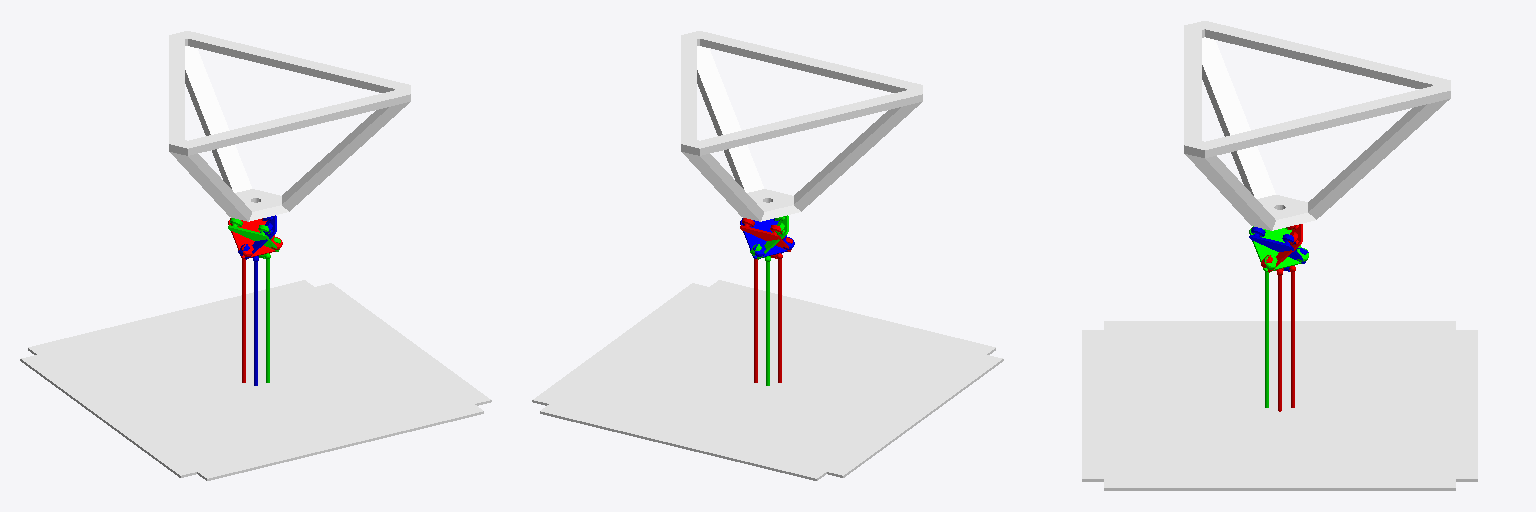
robot.urdf — deltarobot:
<?xml version="1.0"?>
<robot name="deltarobot">

    <!-- RAILS -->
    <link name="rails_link">
        <visual>
            <origin xyz="0 0 0"/>
            <geometry>
                <mesh filename="rails.stl"/>
            </geometry>
            <material name="white">
              <color rgba="1 1 1 1"/>
            </material>
        </visual>
        <collision>
            <origin xyz="0 0 0"/>
            <geometry>
                <mesh filename="rails.stl"/>
            </geometry>
        </collision>
    </link>
    <!-- RAILS END-->

    <!-- ************************************************************************ -->





    <!-- ************************************************************************ -->

    <!-- CARRIAGE 1 -->
    <link name="carriage_1_link">
        <visual>
            <origin xyz="0. 0. 0."/>
            <geometry>
                <mesh filename="carriage.stl"/>
            </geometry>
            <material name="red">
              <color rgba="1 0 0 1"/>
            </material>
        </visual>
    </link>

    <joint name="carriage_1_joint" type="prismatic">
        <origin xyz="0. 0. 0." rpy="0 0 0"/>
        <parent link="rails_link"/>
        <child link="carriage_1_link"/>
        <axis xyz="0 1 1"/>
        <limit lower="0" upper="0" velocity="0" effort="0"/> 
    </joint>
    <!-- CARRIAGE 1 END-->


    <!-- ROD 1A -->
    <link name="rod_1a_link_virtual">
    </link>

    <link name="rod_1a_link">
        <visual>
            <origin xyz="0. 0. 0."/>
            <geometry>
                <mesh filename="link.stl"/>
            </geometry>
            <material name="red">
              <color rgba="1 0 0 1"/>
            </material>
        </visual>
        <collision>
            <origin xyz="0. 0. 0."/>
            <geometry>
                <mesh filename="link.stl"/>
            </geometry>
        </collision>
    </link>

    <joint name="rod_1a_x_joint" type="revolute">
        <origin xyz="25 0. 0." rpy="0 0 0"/>
        <parent link="carriage_1_link"/>
        <child link="rod_1a_link_virtual"/>
        <axis xyz="1 0 0"/>
        <limit lower="0" upper="0" velocity="0" effort="0"/> 
    </joint>

    <joint name="rod_1a_y_joint" type="revolute">
        <origin xyz="0. 0. 0." rpy="0 0 0"/>
        <parent link="rod_1a_link_virtual"/>
        <child link="rod_1a_link"/>
        <axis xyz="0 1 0"/>
        <limit lower="0" upper="0" velocity="0" effort="0"/> 
    </joint>
    <!-- ROD 1A END-->

    <!-- ROD 1B -->
    <link name="rod_1b_link_virtual">
    </link>

    <link name="rod_1b_link">
        <visual>
            <origin xyz="0. 0. 0."/>
            <geometry>
                <mesh filename="link.stl"/>
            </geometry>
            <material name="red">
              <color rgba="1 0 0 1"/>
            </material>
        </visual>
        <collision>
            <origin xyz="0. 0. 0."/>
            <geometry>
                <mesh filename="link.stl"/>
            </geometry>
        </collision>
    </link>

    <joint name="rod_1b_x_joint" type="revolute">
        <origin xyz="-25 0. 0." rpy="0 0 0"/>
        <parent link="carriage_1_link"/>
        <child link="rod_1b_link_virtual"/>
        <axis xyz="1 0 0"/>
        <limit lower="0" upper="0" velocity="0" effort="0"/> 
    </joint>

    <joint name="rod_1b_y_joint" type="revolute">
        <origin xyz="0. 0. 0." rpy="0 0 0"/>
        <parent link="rod_1b_link_virtual"/>
        <child link="rod_1b_link"/>
        <axis xyz="0 1 0"/>
        <limit lower="0" upper="0" velocity="0" effort="0"/> 
    </joint>
    <!-- ROD 1B END-->


    <!-- ROD 1 END EFFECTOR -->
    <link name="rod_1_end_effector_link">
    </link>

    <joint name="rod_1_end_effector_joint" type="fixed">
        <origin xyz="0 0 -400"/>
        <parent link="rod_1a_link"/>
        <child link="rod_1_end_effector_link"/>
    </joint>
    <!-- ROD 1 END EFFECTOR END -->

    <!-- ************************************************************************ -->





    <!-- ************************************************************************ -->

    <!-- CARRIAGE 2 -->
    <link name="carriage_2_link">
        <visual>
            <origin xyz="0. 0. 0." rpy="0 0 2.0943951"/>
            <geometry>
                <mesh filename="carriage.stl"/>
            </geometry>
            <material name="green">
              <color rgba="0 1 0 1"/>
            </material>
        </visual>
    </link>

    <joint name="carriage_2_joint" type="prismatic">
        <origin xyz="0. 0. 0." rpy="0 0 0"/>
        <parent link="rails_link"/>
        <child link="carriage_2_link"/>
        <axis xyz="-0.61237244 -0.35355339 0.70710678"/>
        <limit lower="0" upper="0" velocity="0" effort="0"/> 
    </joint>
    <!-- CARRIAGE 2 END-->


    <!-- ROD 2A -->
    <link name="rod_2a_link_virtual">
    </link>

    <link name="rod_2a_link">
        <visual>
            <origin xyz="0 0 0"/>
            <geometry>
                <mesh filename="link.stl"/>
            </geometry>
            <material name="green">
              <color rgba="0 1 0 1"/>
            </material>
        </visual>
        <collision>
            <origin xyz="0. 0. 0."/>
            <geometry>
                <mesh filename="link.stl"/>
            </geometry>
        </collision>
    </link>

    <joint name="rod_2a_x_joint" type="revolute">
        <origin xyz="12.5 -21.650635 0" rpy="0 0 0"/>
        <parent link="carriage_2_link"/>
        <child link="rod_2a_link_virtual"/>
        <axis xyz="-0.5 0.8660254 0"/>
        <limit lower="0" upper="0" velocity="0" effort="0"/> 
    </joint>

    <joint name="rod_2a_y_joint" type="revolute">
        <origin xyz="0 0 0" rpy="0 0 0"/>
        <parent link="rod_2a_link_virtual"/>
        <child link="rod_2a_link"/>
        <axis xyz="-0.8660254 -0.5 0"/>
        <limit lower="0" upper="0" velocity="0" effort="0"/> 
    </joint>
    <!-- ROD 2A END-->

    <!-- ROD 2B -->
    <link name="rod_2b_link_virtual">
    </link>

    <link name="rod_2b_link">
        <visual>
            <origin xyz="0. 0. 0."/>
            <geometry>
                <mesh filename="link.stl"/>
            </geometry>
            <material name="green">
              <color rgba="0 1 0 1"/>
            </material>
        </visual>
        <collision>
            <origin xyz="0. 0. 0."/>
            <geometry>
                <mesh filename="link.stl"/>
            </geometry>
        </collision>
    </link>

    <joint name="rod_2b_x_joint" type="revolute">
        <origin xyz="-12.5 21.650635 0" rpy="0 0 0"/>
        <parent link="carriage_2_link"/>
        <child link="rod_2b_link_virtual"/>
        <axis xyz="-0.5 0.8660254 0"/>
        <limit lower="0" upper="0" velocity="0" effort="0"/> 
    </joint>

    <joint name="rod_2b_y_joint" type="revolute">
        <origin xyz="0 0 0" rpy="0 0 0"/>
        <parent link="rod_2b_link_virtual"/>
        <child link="rod_2b_link"/>
        <axis xyz="-0.8660254 -0.5 0"/>
        <limit lower="0" upper="0" velocity="0" effort="0"/> 
    </joint>
    <!-- ROD 2B END-->

    <!-- ROD 2 END EFFECTOR -->
    <link name="rod_2_end_effector_link">
    </link>

    <joint name="rod_2_end_effector_joint" type="fixed">
        <origin xyz="0 0 -400"/>
        <parent link="rod_2a_link"/>
        <child link="rod_2_end_effector_link"/>
    </joint>
    <!-- ROD 2 END EFFECTOR END -->

    <!-- ************************************************************************ -->


    



    <!-- ************************************************************************ -->

    <!-- CARRIAGE 3 -->
    <link name="carriage_3_link">
        <visual>
            <origin xyz="0. 0. 0." rpy="0 0 -2.0943951"/>
            <geometry>
                <mesh filename="carriage.stl"/>
            </geometry>
            <material name="blue">
              <color rgba="0 0 1 1"/>
            </material>
        </visual>
    </link>

    <joint name="carriage_3_joint" type="prismatic">
        <origin xyz="0. 0. 0." rpy="0 0 0"/>
        <parent link="rails_link"/>
        <child link="carriage_3_link"/>
        <axis xyz="0.61237244 -0.35355339 0.70710678"/>
        <limit lower="0" upper="0" velocity="0" effort="0"/> 
    </joint>
    <!-- CARRIAGE 3 END-->


    <!-- ROD 3A -->
    <link name="rod_3a_link_virtual">
    </link>

    <link name="rod_3a_link">
        <visual>
            <origin xyz="0 0 0" rpy="0 0 0"/>
            <geometry>
                <mesh filename="link.stl"/>
            </geometry>
            <material name="blue">
              <color rgba="0 0 1 1"/>
            </material>
        </visual>
        <collision>
            <origin xyz="0. 0. 0."/>
            <geometry>
                <mesh filename="link.stl"/>
            </geometry>
        </collision>
    </link>

    <joint name="rod_3a_x_joint" type="revolute">
        <origin xyz="-12.5 -21.650635 0" rpy="0 0 0"/>
        <parent link="carriage_3_link"/>
        <child link="rod_3a_link_virtual"/>
        <axis xyz="-0.5 -0.8660254 0"/>
        <limit lower="0" upper="0" velocity="0" effort="0"/> 
    </joint>

    <joint name="rod_3a_y_joint" type="revolute">
        <origin xyz="0 0 0" rpy="0 0 0"/>
        <parent link="rod_3a_link_virtual"/>
        <child link="rod_3a_link"/>
        <axis xyz="0.8660254 -0.5 0"/>
        <limit lower="0" upper="0" velocity="0" effort="0"/> 
    </joint>
    <!-- ROD 3A END-->

    <!-- ROD 3B -->
    <link name="rod_3b_link_virtual">
    </link>

    <link name="rod_3b_link">
        <visual>
            <origin xyz="0. 0. 0."/>
            <geometry>
                <mesh filename="link.stl"/>
            </geometry>
            <material name="blue">
              <color rgba="1 0 0 1"/>
            </material>
        </visual>
        <collision>
            <origin xyz="0. 0. 0."/>
            <geometry>
                <mesh filename="link.stl"/>
            </geometry>
        </collision>
    </link>

    <joint name="rod_3b_x_joint" type="revolute">
        <origin xyz="12.5 21.650635 0" rpy="0 0 0"/>
        <parent link="carriage_3_link"/>
        <child link="rod_3b_link_virtual"/>
        <axis xyz="-0.5 -0.8660254 0"/>
        <limit lower="0" upper="0" velocity="0" effort="0"/> 
    </joint>

    <joint name="rod_3b_y_joint" type="revolute">
        <origin xyz="0 0 0" rpy="0 0 0"/>
        <parent link="rod_3b_link_virtual"/>
        <child link="rod_3b_link"/>
        <axis xyz="0.8660254 -0.5 0"/>
        <limit lower="0" upper="0" velocity="0" effort="0"/> 
    </joint>
    <!-- ROD 3B END--> 

    <!-- ROD 3 END EFFECTOR -->
    <link name="rod_3_end_effector_link">
    </link>

    <joint name="rod_3_end_effector_joint" type="fixed">
        <origin xyz="0 0 -400"/>
        <parent link="rod_3a_link"/>
        <child link="rod_3_end_effector_link"/>
    </joint>
    <!-- ROD 3 END EFFECTOR END -->

    <!-- ************************************************************************ -->

</robot>

--- Render facts (derived) ---
The picture shows the robot from 3 angles, left to right: view 1: azimuth 30°, elevation 25°; view 2: azimuth 150°, elevation 25°; view 3: azimuth 270°, elevation 25°; orthographic projection.
Model deltarobot with 19 links and 18 joints (12 revolute, 3 prismatic, 3 fixed), rooted at rails_link, posed every joint at zero.
Links seen in each view (by area): view 1: rails_link, carriage_1_link, carriage_2_link, rod_2a_link, rod_3a_link; view 2: rails_link, carriage_3_link, carriage_1_link, rod_1b_link, rod_2b_link; view 3: rails_link, carriage_2_link, carriage_3_link, rod_1a_link, rod_3b_link, rod_2a_link.
Link boxes in pixels (x1=…): rails_link: x1=20, y1=31, x2=491, y2=480; carriage_1_link: x1=228, y1=218, x2=282, y2=258; carriage_2_link: x1=228, y1=218, x2=280, y2=258; rod_2a_link: x1=264, y1=253, x2=270, y2=382; rod_3a_link: x1=253, y1=256, x2=258, y2=385; rails_link: x1=532, y1=31, x2=1003, y2=480; carriage_3_link: x1=740, y1=218, x2=794, y2=258; carriage_1_link: x1=740, y1=218, x2=792, y2=258; rod_1b_link: x1=776, y1=253, x2=782, y2=382; rod_2b_link: x1=765, y1=256, x2=770, y2=385; rails_link: x1=1082, y1=21, x2=1477, y2=490; carriage_2_link: x1=1249, y1=226, x2=1308, y2=271; carriage_3_link: x1=1249, y1=227, x2=1308, y2=271; rod_1a_link: x1=1277, y1=269, x2=1282, y2=411; rod_3b_link: x1=1289, y1=266, x2=1295, y2=407; rod_2a_link: x1=1265, y1=272, x2=1268, y2=407.
Size in the robot's own frame: 664 by 664 by 740 metres.
Meshes: 3 distinct files referenced, 10 mesh visuals loaded (3 binary STL).